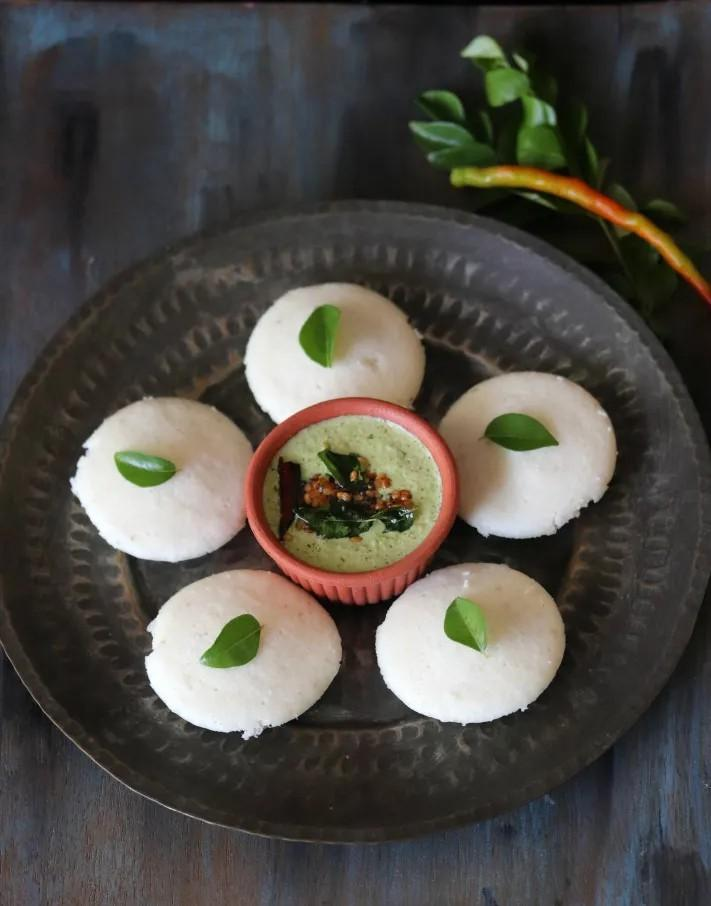CoconutChutney: (256, 408, 447, 576)
Idli: (436, 344, 622, 543), (378, 551, 561, 739), (133, 564, 331, 734), (73, 389, 245, 568), (236, 279, 415, 416)
